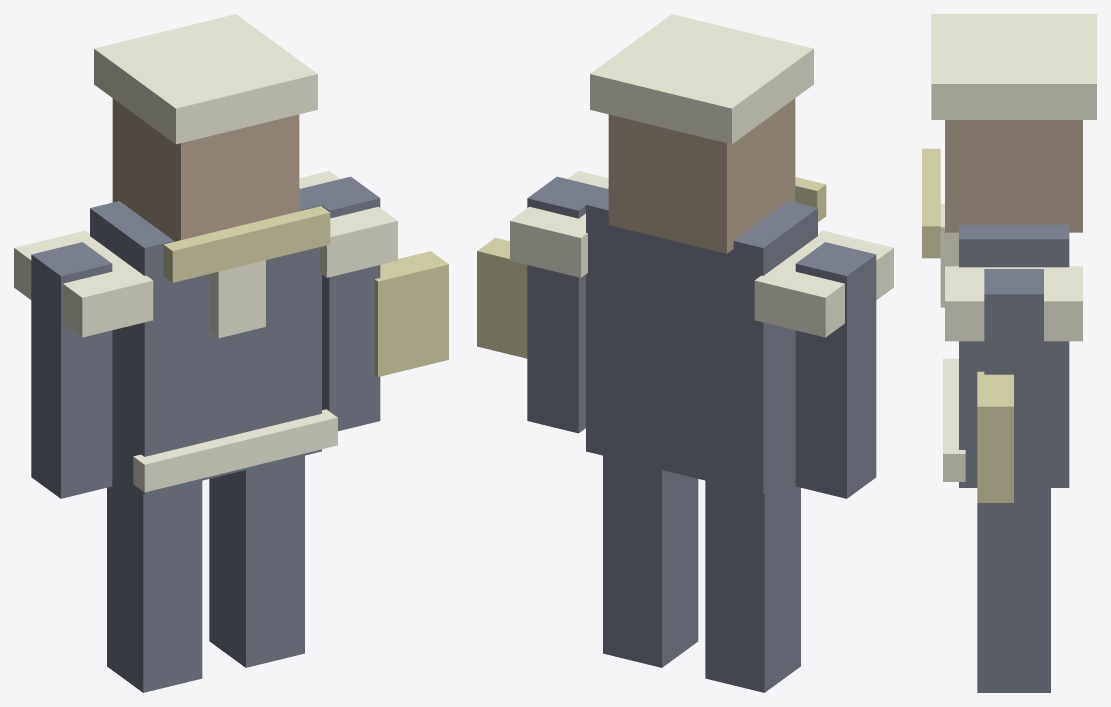
Rendered from 06_cassian_ashvein_oracle_at_cargo.glb.
The picture shows the model from 3 angles, left to right: view 1: azimuth 30°, elevation 25°; view 2: azimuth 150°, elevation 25°; view 3: azimuth 270°, elevation 25°; orthographic projection.
Parts seen in each view (by area): view 1: Cassian Ashvein, Oracle at Cargo; view 2: Cassian Ashvein, Oracle at Cargo; view 3: Cassian Ashvein, Oracle at Cargo.
Part boxes in pixels (x1,y1,x2,y2): Cassian Ashvein, Oracle at Cargo: (14, 14, 448, 692); Cassian Ashvein, Oracle at Cargo: (477, 14, 893, 692); Cassian Ashvein, Oracle at Cargo: (922, 14, 1096, 692).
Bounding box in the file's own units: 0.974 × 1.45 × 0.3796.
